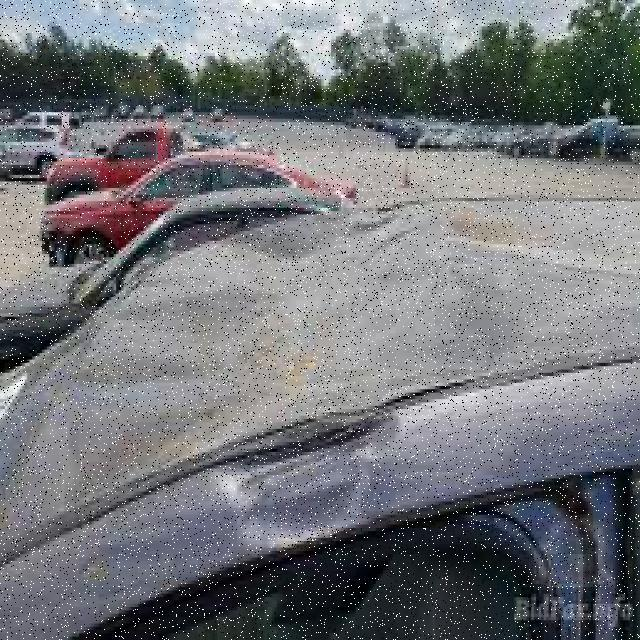roof-dent: (0, 198, 638, 588)
